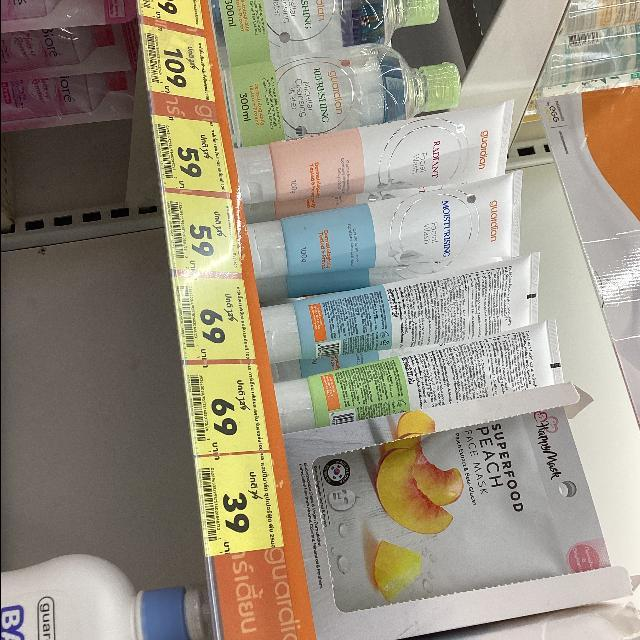Squeeze Tube: (203, 95, 634, 442)
